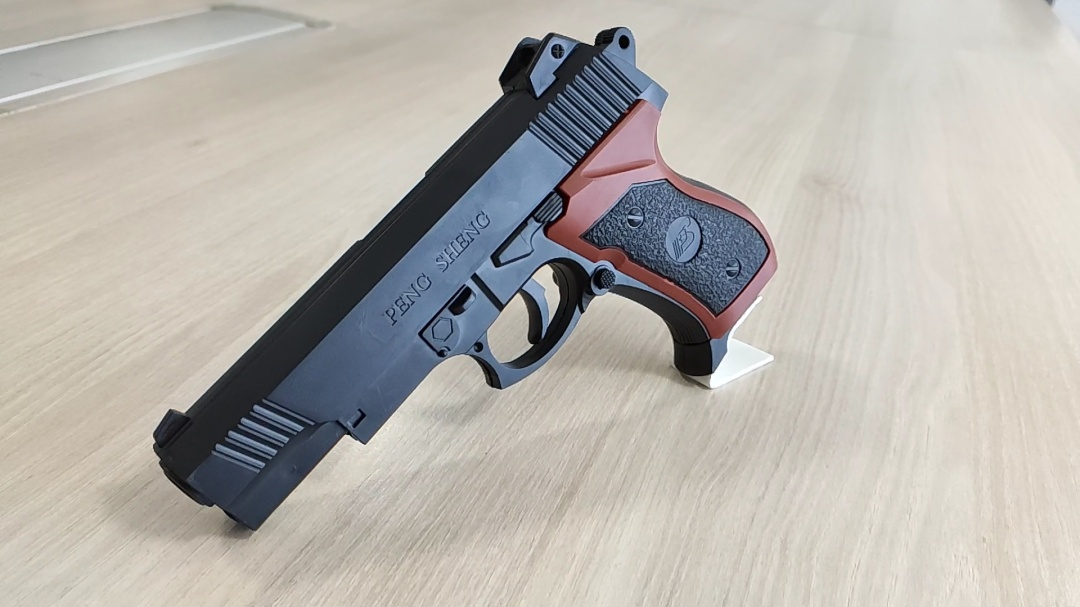gun: (503, 168, 564, 196)
